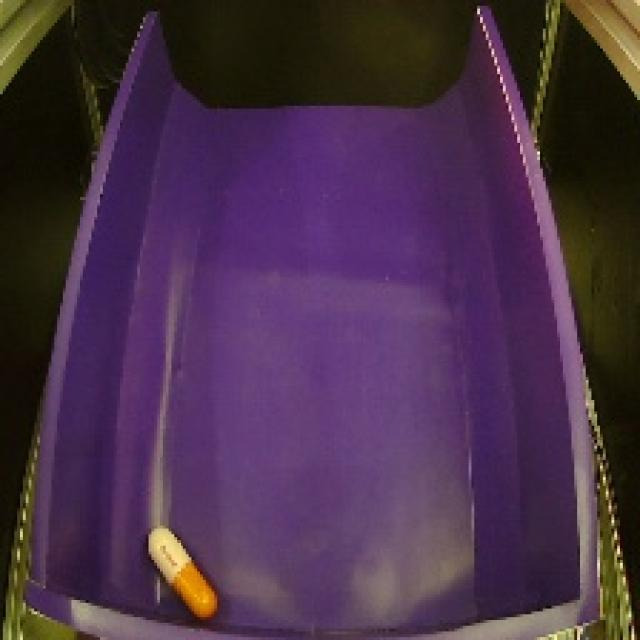small: (144, 510, 223, 630)
